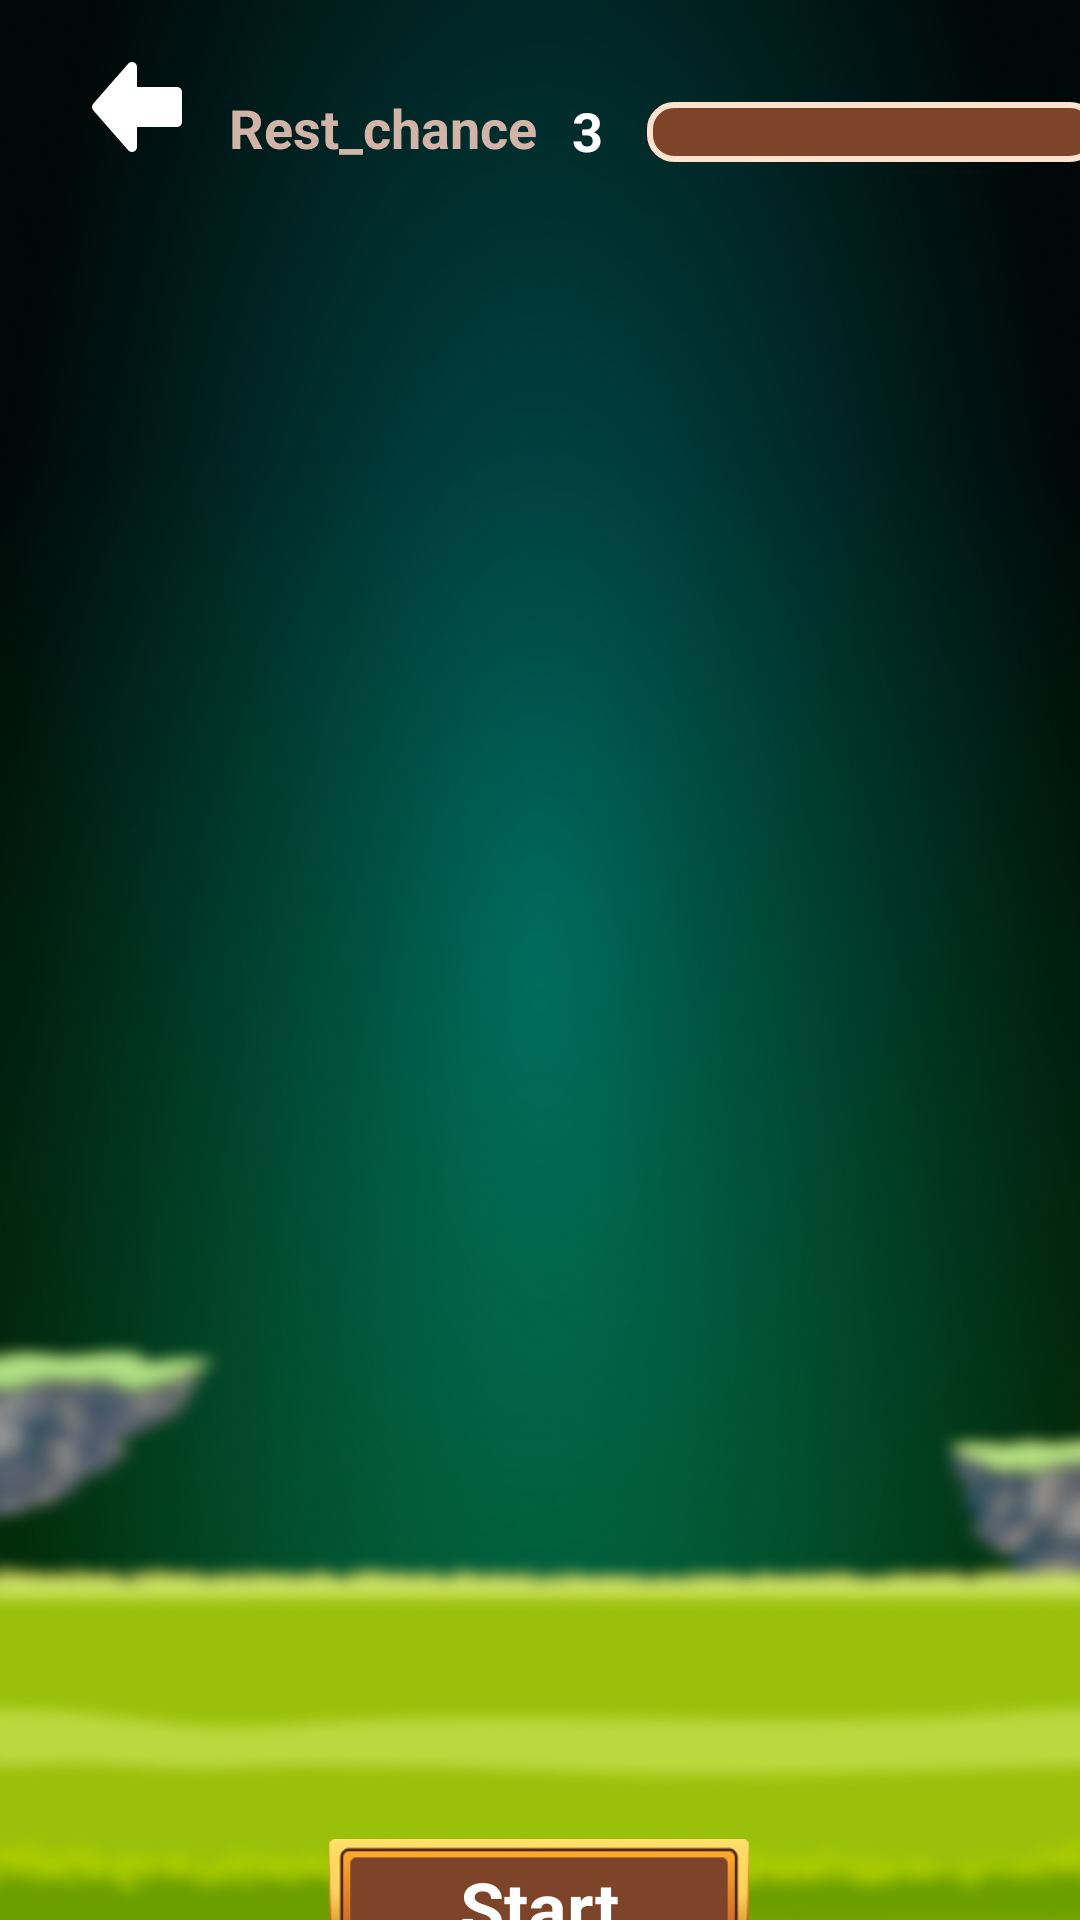

Icons on this 1080 x 1920 Android screen, each with its box as (x1, y1, x2, y2):
back: (92, 62, 182, 152)
